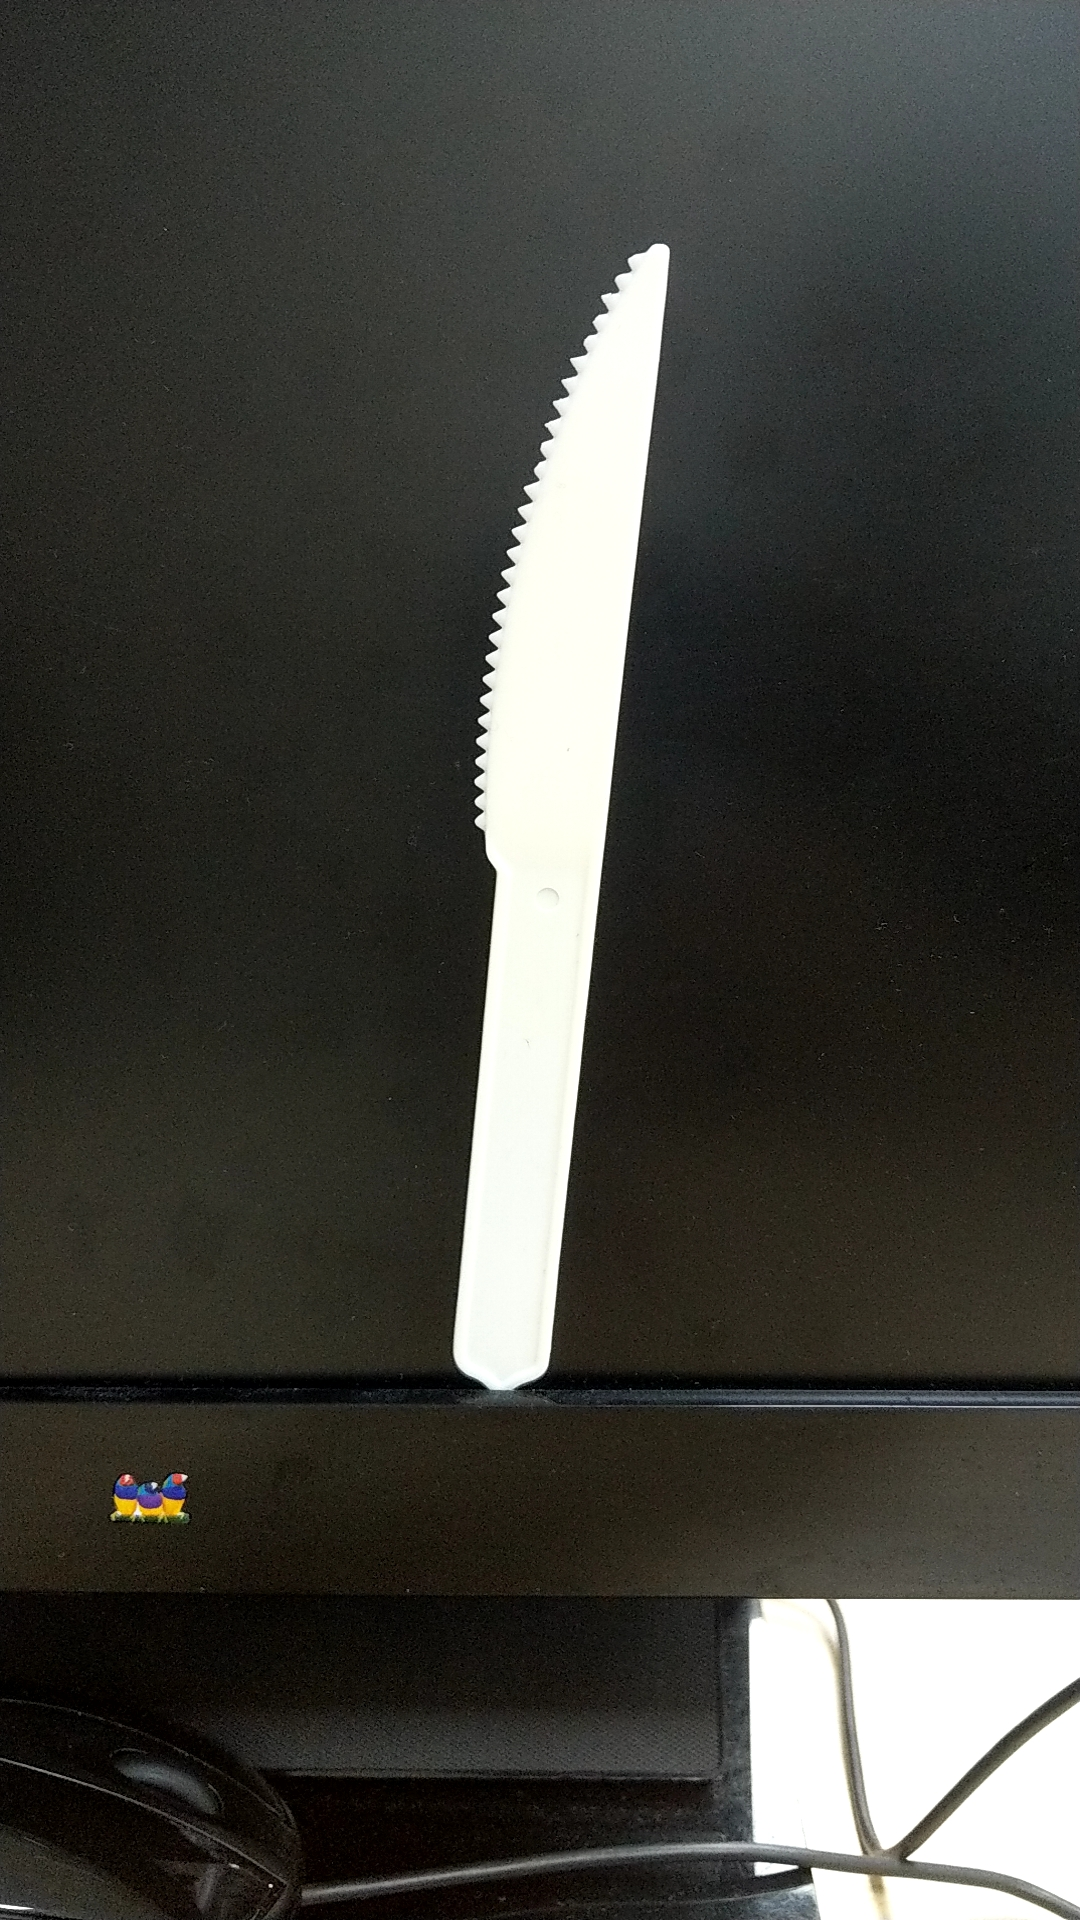knife: (384, 171, 702, 1404)
